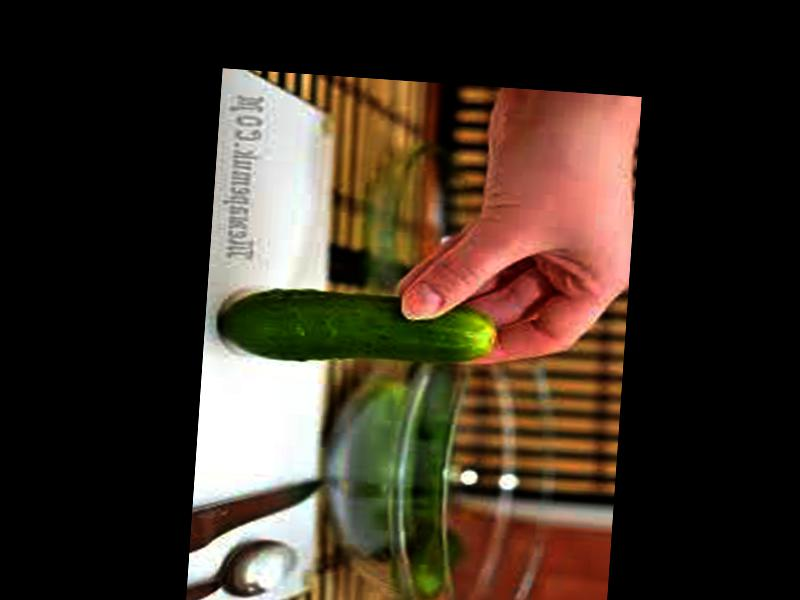Cucumber: (219, 284, 498, 374)
